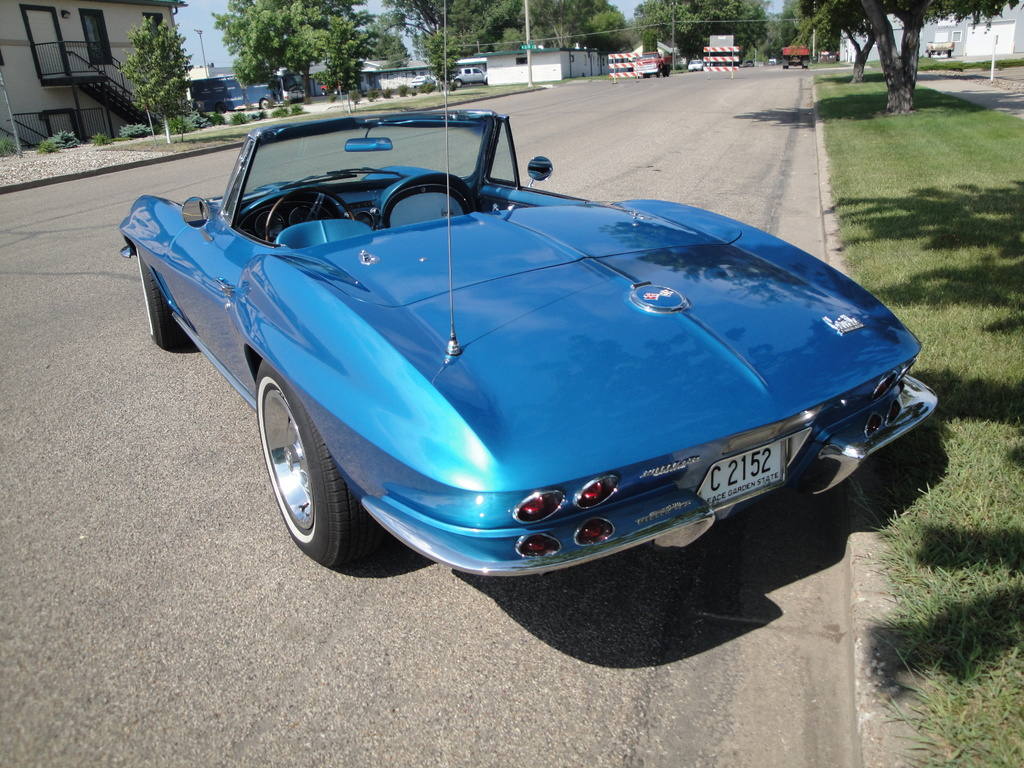mobil: (118, 69, 958, 601)
